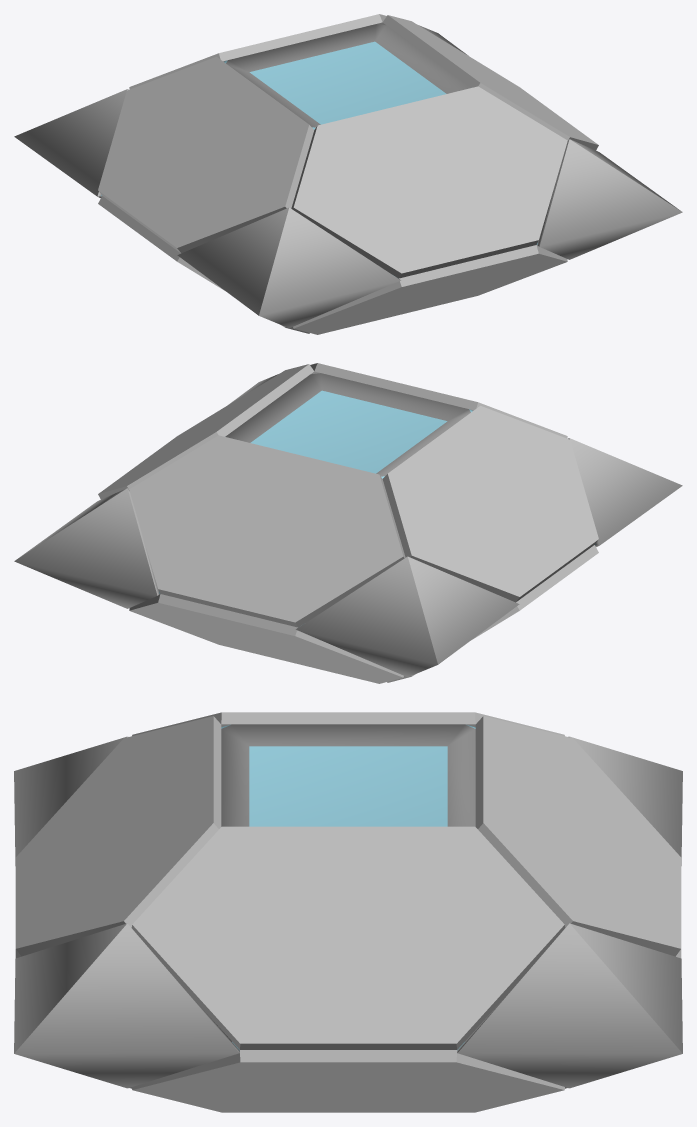
The model's file is transporter.fbx.
3 renders of one model, top to bottom at view 1: azimuth 30°, elevation 25°; view 2: azimuth 150°, elevation 25°; view 3: azimuth 270°, elevation 25°, orthographic. The views are drawn at different scales.
Visible parts, largest first — view 1: top4, top3, corner3, main_module, corner1, bottom4, corner4, top1, top2, bottom3; view 2: top2, top3, corner4, main_module, corner2, bottom2, corner3, top1, top4, bottom3; view 3: top1, top2, top4, main_module, corner1, corner2, bottom1, corner3, corner4, top3.
Boxes of the visible parts, box(x1,y1,x2,y2) form: top4: box(291, 86, 567, 278); top3: box(98, 57, 314, 253); corner3: box(177, 207, 400, 328); main_module: box(224, 24, 537, 275); corner1: box(537, 139, 682, 259); bottom4: box(293, 245, 567, 334); corner4: box(14, 89, 128, 197); top1: box(382, 15, 598, 150); top2: box(129, 14, 386, 89); bottom3: box(98, 196, 309, 333); top2: box(129, 435, 405, 627); top3: box(382, 406, 598, 602); corner4: box(296, 556, 519, 677); main_module: box(159, 373, 472, 624); corner2: box(14, 488, 159, 608); bottom2: box(129, 594, 403, 683); corner3: box(568, 438, 682, 546); top1: box(98, 364, 314, 499); top4: box(310, 363, 567, 438); bottom3: box(387, 545, 598, 682); top1: box(131, 826, 565, 1049); top2: box(475, 716, 681, 956); top4: box(15, 716, 221, 956); main_module: box(214, 724, 482, 1050); corner1: box(14, 923, 239, 1088); corner2: box(457, 923, 682, 1088); bottom1: box(132, 1050, 564, 1112); corner3: box(14, 736, 128, 865); corner4: box(568, 736, 682, 865); top3: box(132, 712, 564, 735).
Bounding box in the file's own units: 2.26 × 1.07 × 2.26.
